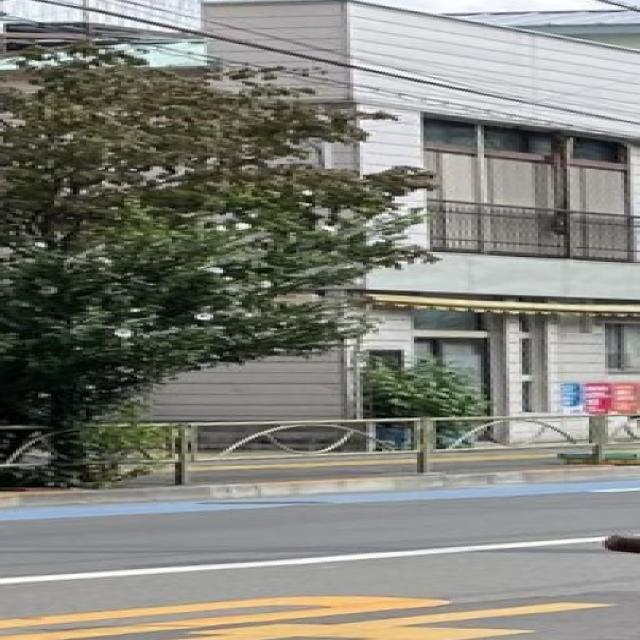dogwood: (0, 41, 447, 483)
